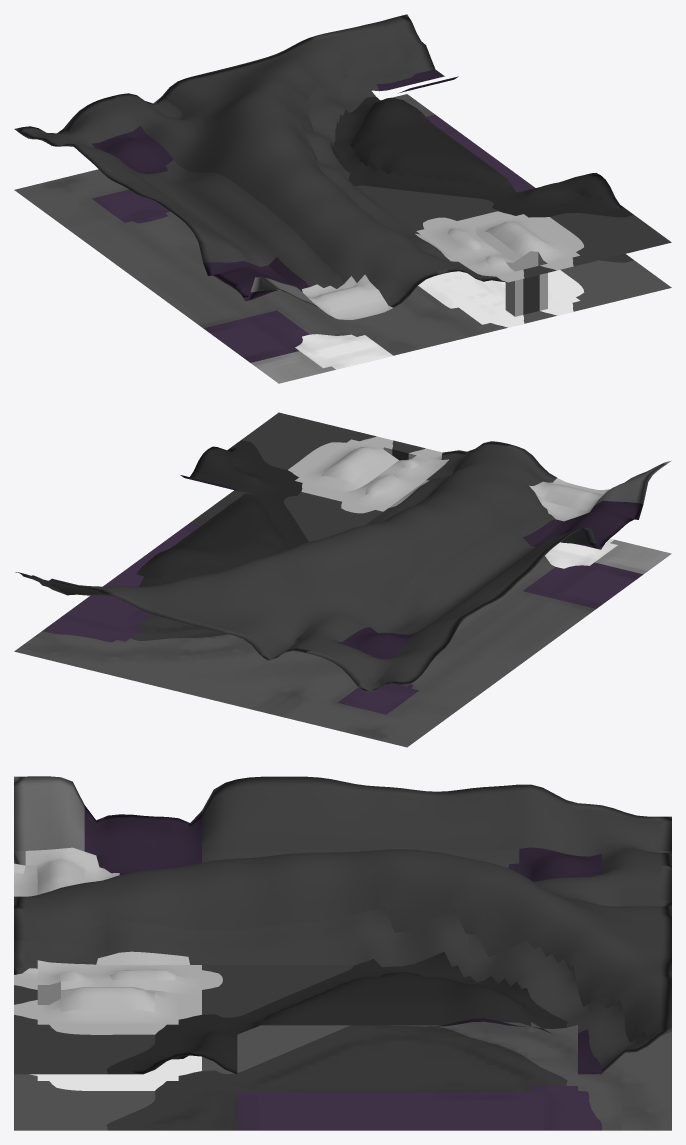
File: delbld-hull-290.glb
The picture shows the model from 3 angles, top to bottom: view 1: azimuth 30°, elevation 25°; view 2: azimuth 150°, elevation 25°; view 3: azimuth 270°, elevation 25°; orthographic projection. The views are drawn at different scales.
Parts seen in each view (by area): view 1: delbld-hull-290; view 2: delbld-hull-290; view 3: delbld-hull-290.
Boxes of the visible parts, x1,y1,x2,y2 form: delbld-hull-290: (14,14,671,383); delbld-hull-290: (14,412,671,747); delbld-hull-290: (14,776,671,1130).
Size of the model in its own units: 2 by 0.5 by 2.33.
Materials: 9 (9 with a texture image).
